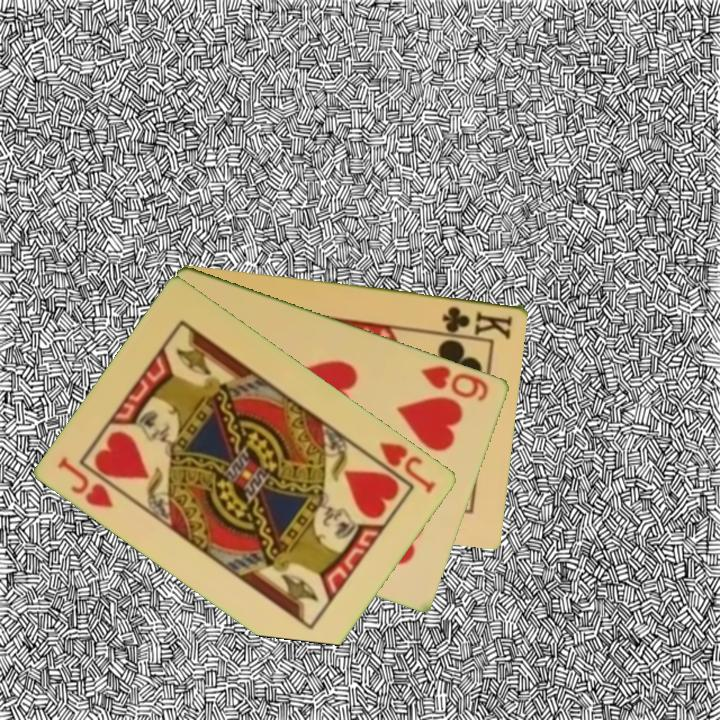6h: (418, 361, 492, 404)
Jh: (363, 438, 440, 496), (54, 453, 117, 511)
Kc: (439, 302, 516, 341)
